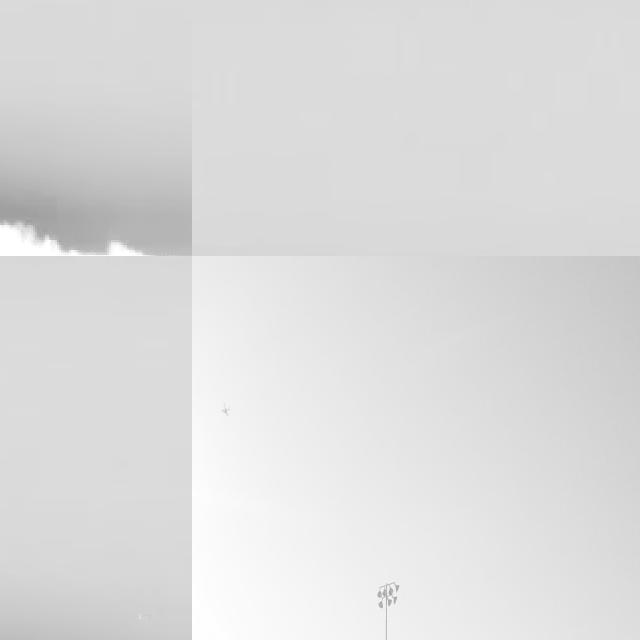0: (132, 602, 158, 636)
drone: (217, 396, 234, 421)
